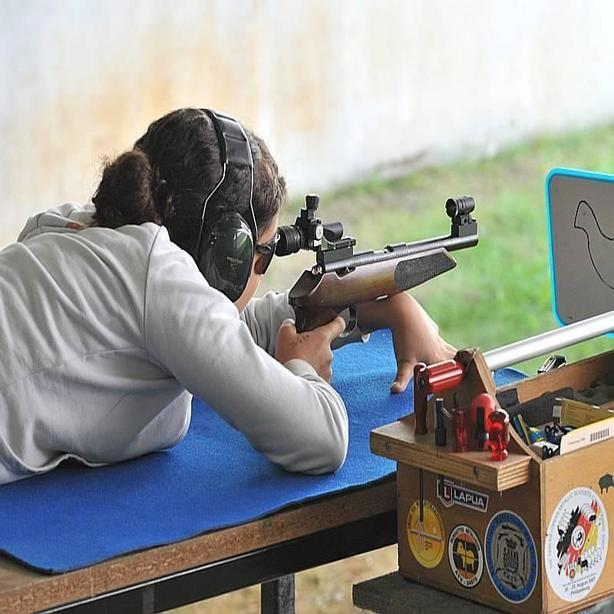Firearm: (263, 182, 533, 349)
